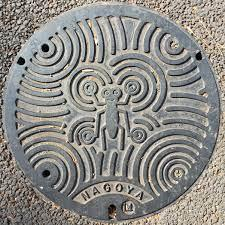closed manhole-not overflowing-: (0, 0, 224, 216)
